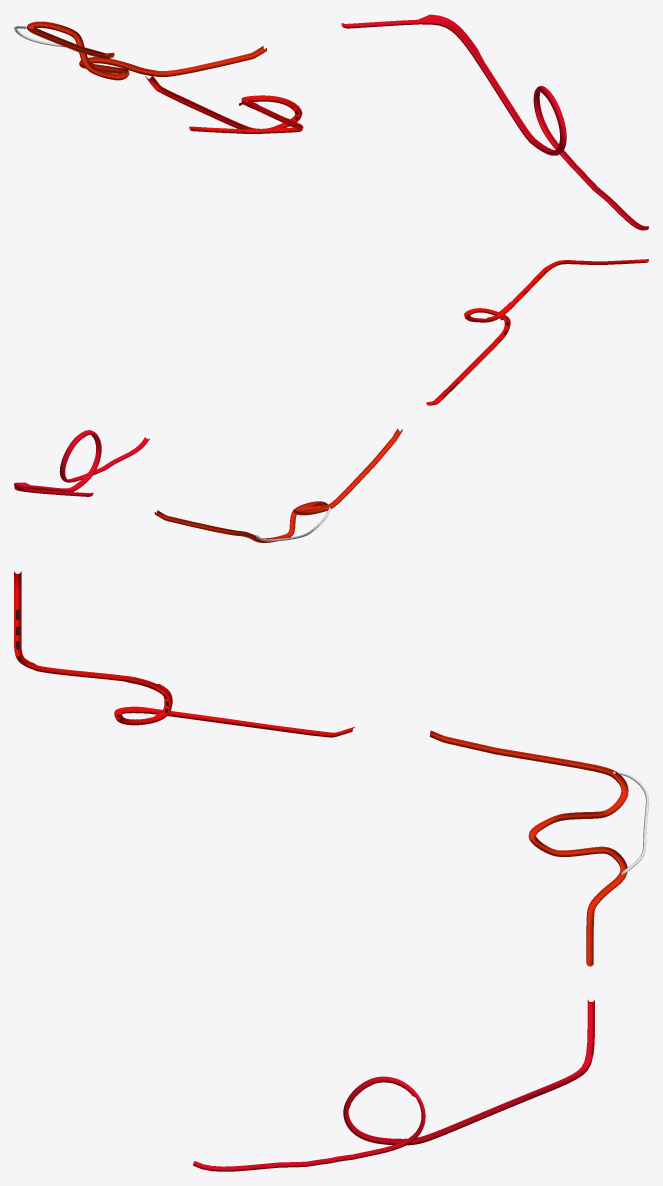
Rendered from MarbleRaceCourse.fbx.
3 views of the same model, one above another, from view 1: azimuth 30°, elevation 25°; view 2: azimuth 150°, elevation 25°; view 3: azimuth 270°, elevation 25° (orthographic). The views are drawn at different scales.
Parts seen in each view (by area): view 1: NurbsPath.014, NurbsPath.018, NurbsPath.012; view 2: NurbsPath.012, NurbsPath.018, NurbsPath.014; view 3: NurbsPath.014, NurbsPath.018, NurbsPath.012.
Boxes of the visible parts, x1,y1,x2,y2 form: NurbsPath.014: (341,14,648,230); NurbsPath.018: (27,21,266,80); NurbsPath.012: (145,75,303,133); NurbsPath.012: (426,259,648,405); NurbsPath.018: (154,428,402,542); NurbsPath.014: (14,430,149,496); NurbsPath.014: (193,1000,594,1171); NurbsPath.018: (429,730,628,966); NurbsPath.012: (14,571,354,737).
Bounding box in the file's own units: 916398 × 482777 × 868713.
